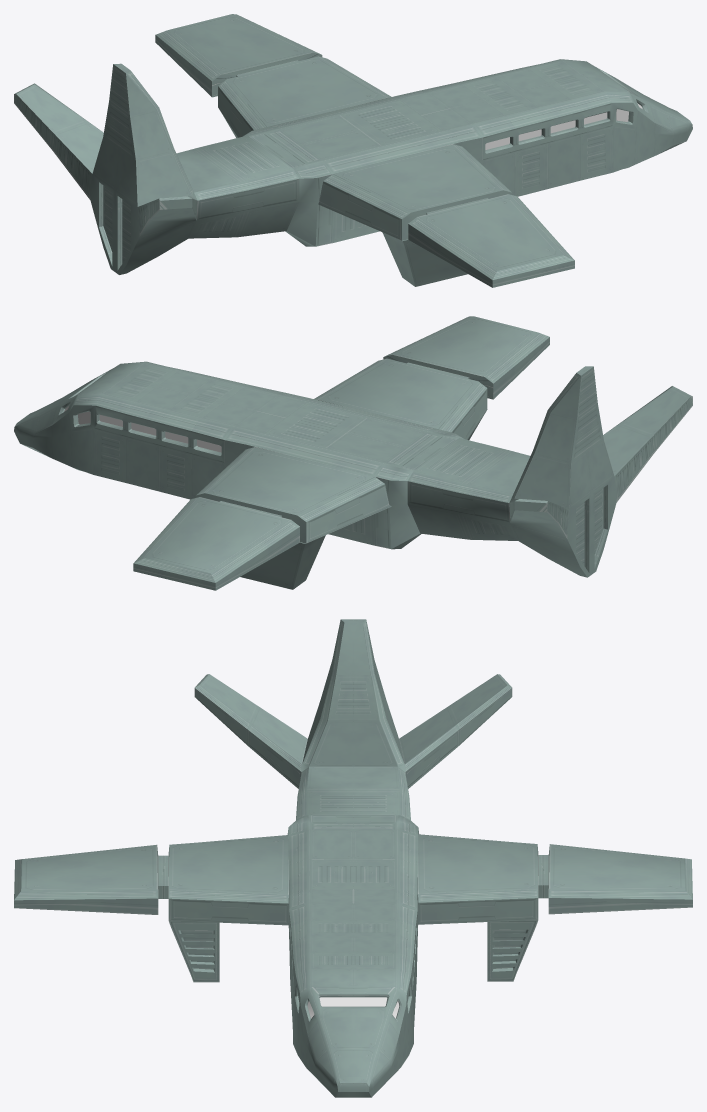
File: SM_A_Ship_Whole.fbx
3 views of the same model, one above another, from view 1: azimuth 30°, elevation 25°; view 2: azimuth 150°, elevation 25°; view 3: azimuth 270°, elevation 25° (orthographic).
Parts seen in each view (by area): view 1: body_joined; view 2: body_joined; view 3: body_joined.
Part boxes in pixels (x1,y1,x2,y2): body_joined: [14, 14, 692, 287]; body_joined: [14, 316, 692, 590]; body_joined: [14, 619, 692, 1097].
Size of the model in its own units: 3825 by 1302 by 3728.
